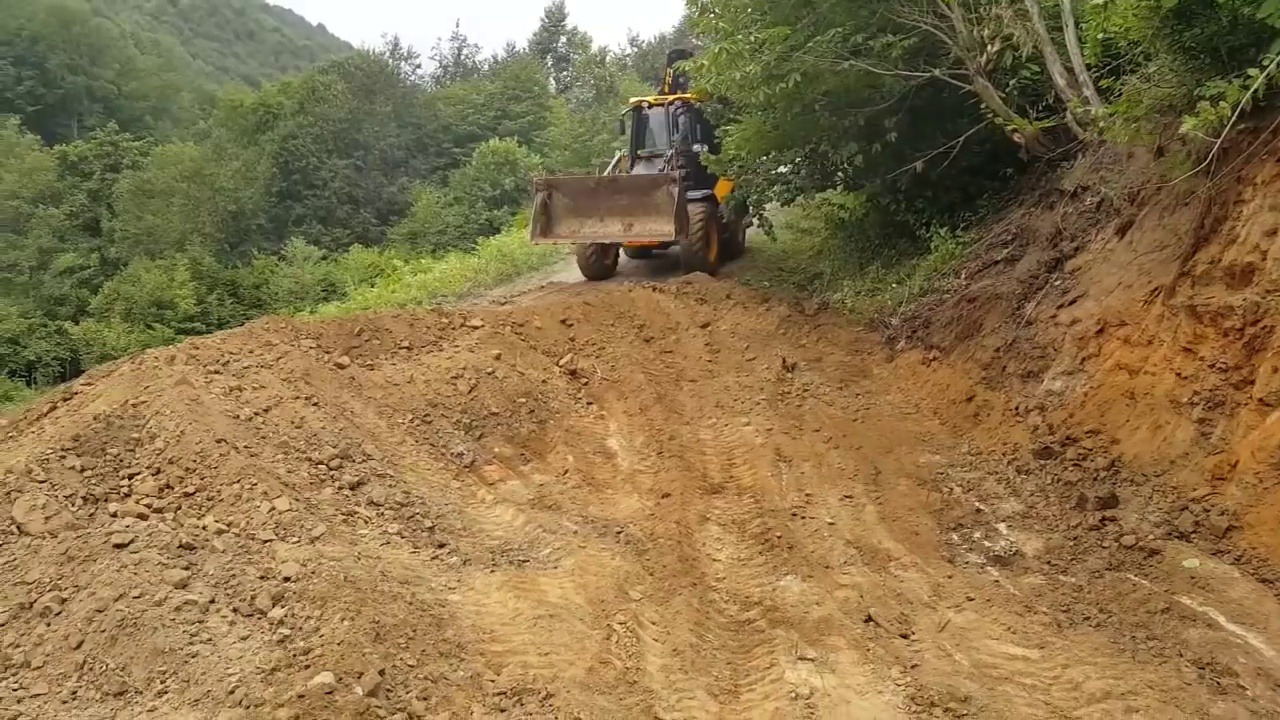wheel loader: (530, 49, 748, 275)
